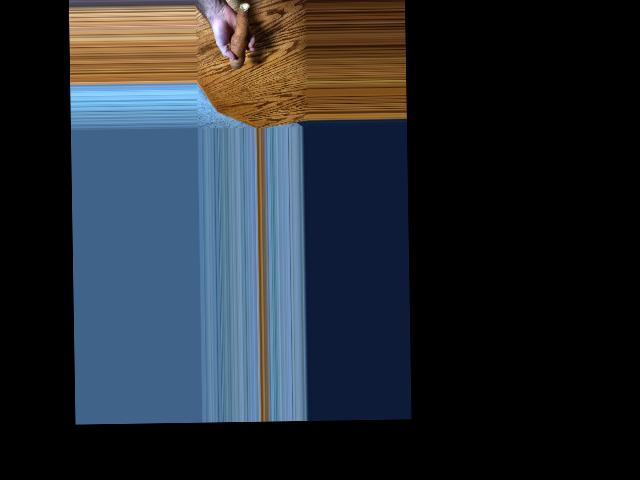sweet_potato: (228, 4, 248, 68)
